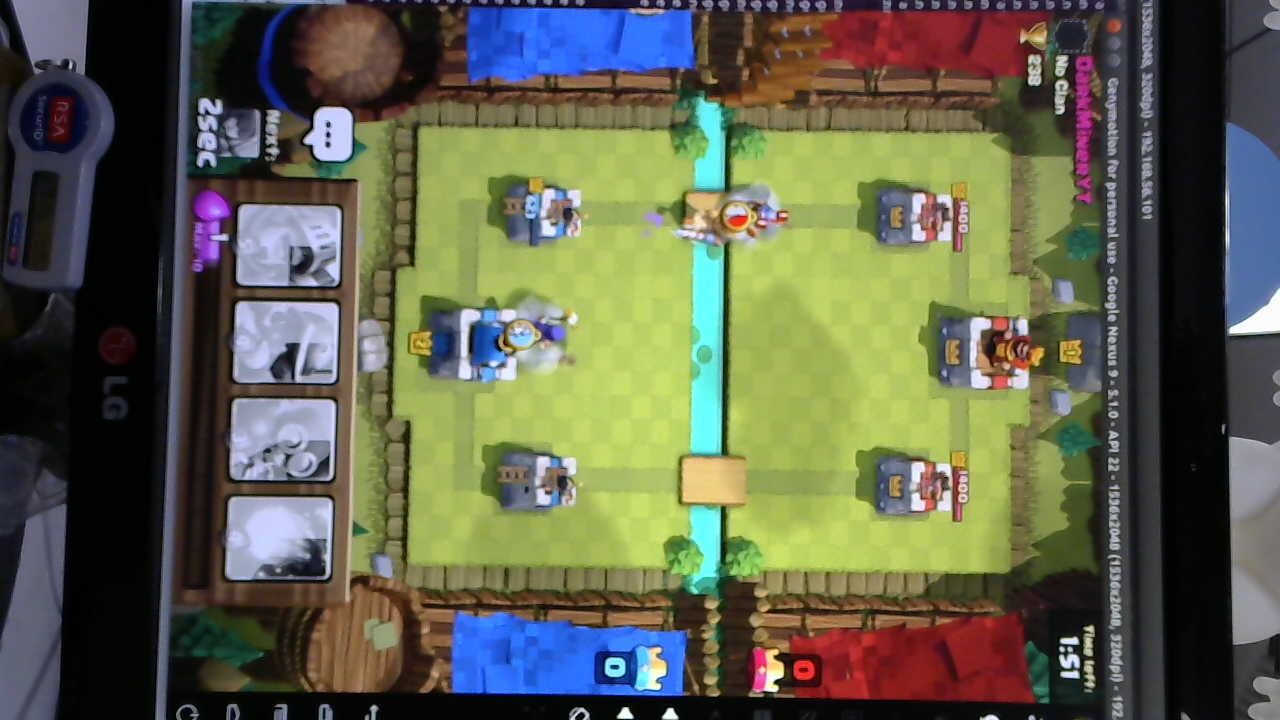arena: (500, 449, 581, 513), (504, 184, 586, 244)
earena: (871, 184, 955, 252), (872, 455, 955, 515)
eking: (934, 311, 1042, 394)
king: (434, 303, 522, 385)
musketeer: (739, 193, 777, 240)
prince: (672, 205, 752, 242)
witch: (527, 310, 575, 357)
